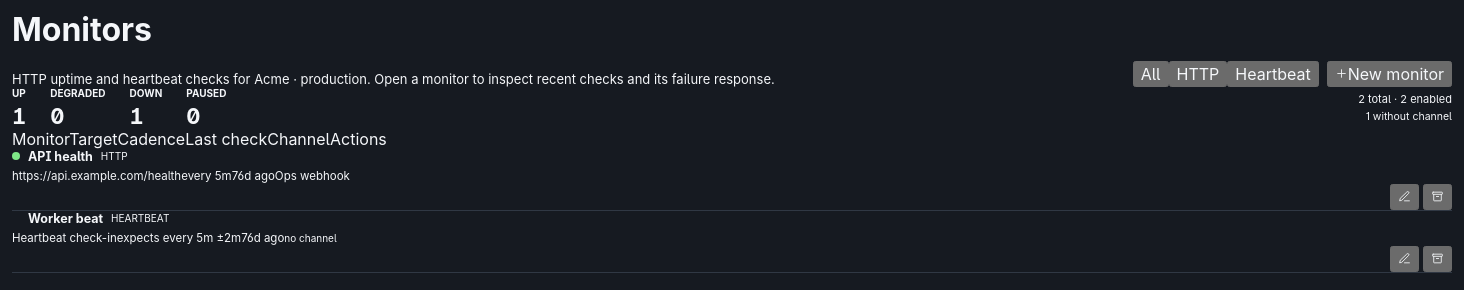
MonitorsScreen — display › filters the list by kind
The width and height of the screenshot is (1464, 290).
Expected: the text "API health" is shown, [28, 149, 93, 164]
Click the button "Heartbeat" at (1273, 74), box [1227, 61, 1319, 87]
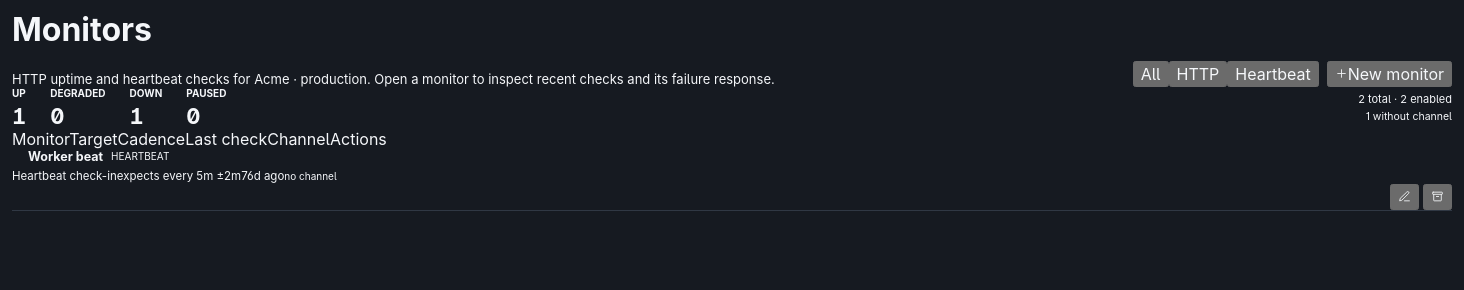
Expected: the text "Worker beat" is shown, [28, 149, 103, 164]
Result: the button "API health" is gone
